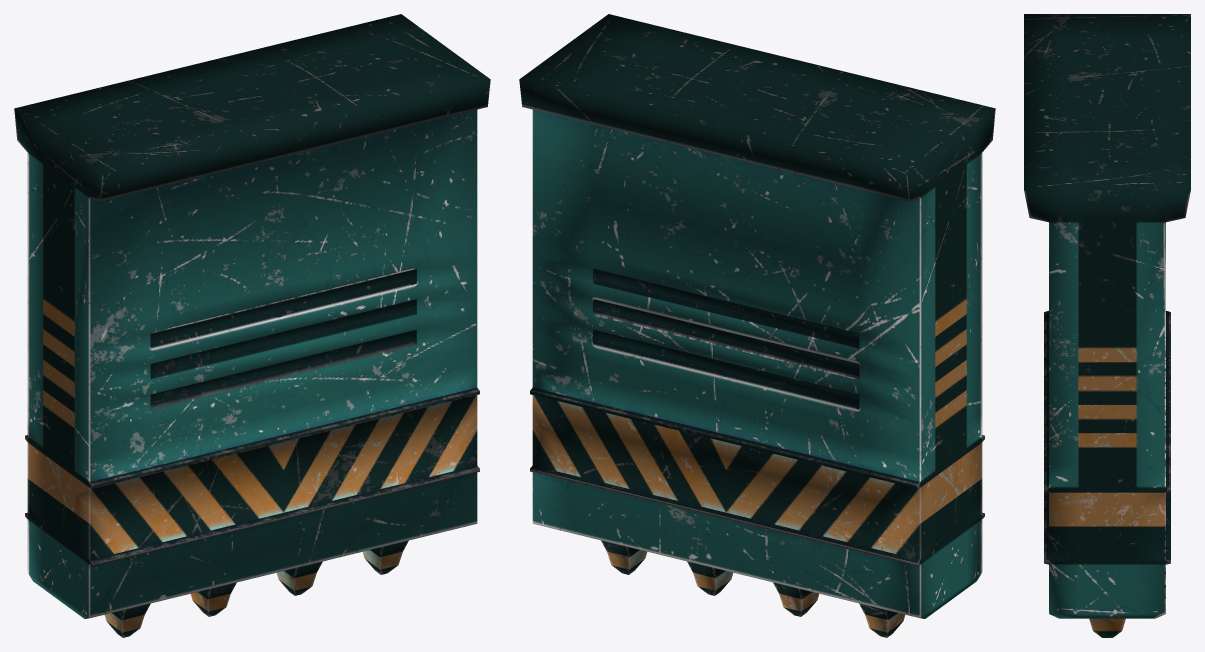
Rendered from Gate_top.gltf.
3 views of the same model, side by side, from view 1: azimuth 30°, elevation 25°; view 2: azimuth 150°, elevation 25°; view 3: azimuth 270°, elevation 25° (orthographic). The views are drawn at different scales.
Visible parts, largest first — view 1: Top; view 2: Top; view 3: Top.
Part boxes in pixels (x1=…): Top: x1=14, y1=14, x2=490, y2=637; Top: x1=519, y1=14, x2=995, y2=637; Top: x1=1024, y1=14, x2=1190, y2=637.
Bounding box in the file's own units: 6 × 7.55 × 2.4.
Materials: 1 (1 with a texture image).
